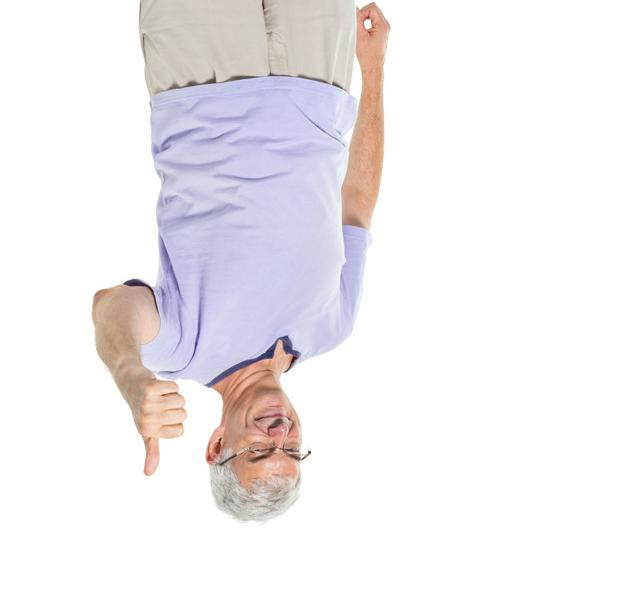thumbsdown: (138, 381, 187, 476)
